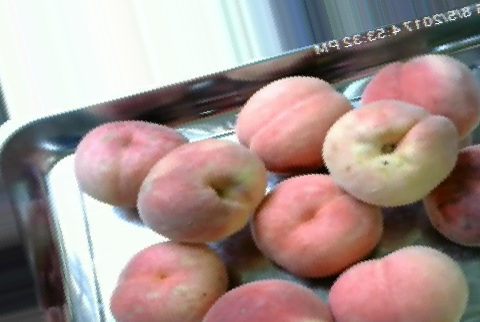Peach: (320, 101, 458, 207), (134, 136, 264, 244), (247, 174, 382, 274), (236, 74, 349, 171), (328, 245, 467, 321), (74, 117, 189, 207), (109, 239, 226, 322), (360, 55, 477, 135)
